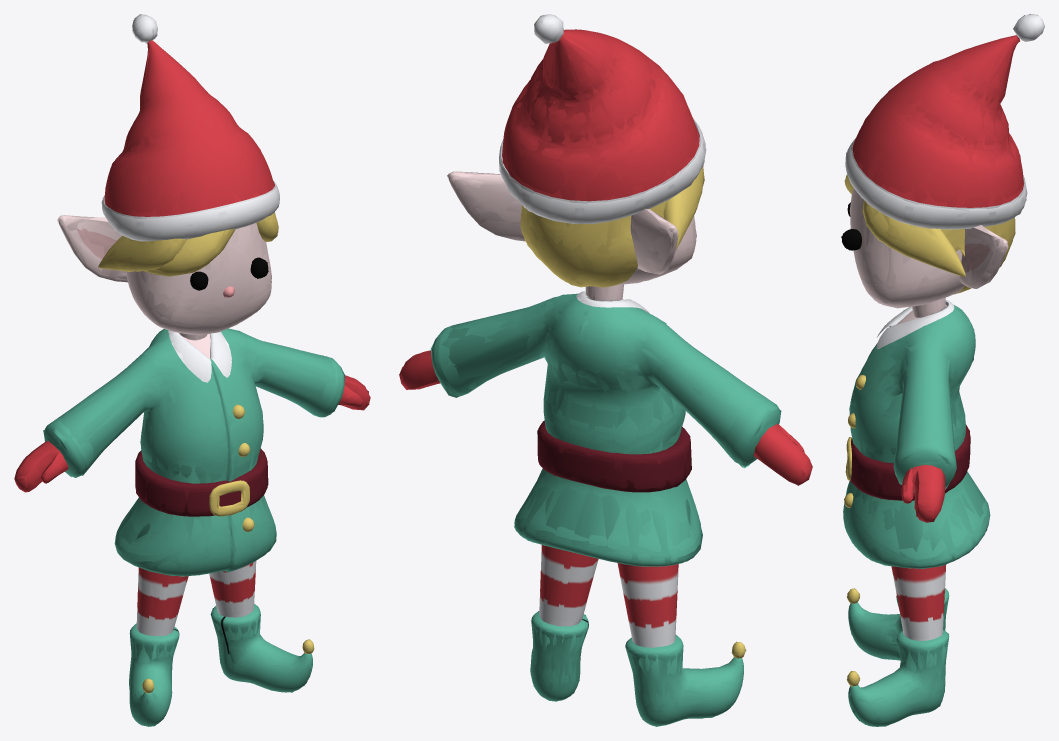
File: winky.fbx
3 renders of one model, left to right at view 1: azimuth 30°, elevation 25°; view 2: azimuth 150°, elevation 25°; view 3: azimuth 270°, elevation 25°, orthographic. The views are drawn at different scales.
Parts seen in each view (by area): view 1: winky, winky.003, winky.002, winky.001; view 2: winky, winky.003, winky.002, winky.001; view 3: winky, winky.003, winky.002, winky.001.
Boxes of the visible parts, x1,y1,x2,y2 form: winky: (14,14,370,726); winky.003: (14,14,369,726); winky.002: (24,41,363,726); winky.001: (48,41,360,725); winky: (399,14,812,725); winky.003: (399,14,810,726); winky.002: (411,29,804,725); winky.001: (438,29,768,725); winky: (843,14,1044,726); winky.003: (843,15,1044,726); winky.002: (843,35,1025,726); winky.001: (843,35,1023,726).
Size of the model in its own units: 317 by 548 by 150.
